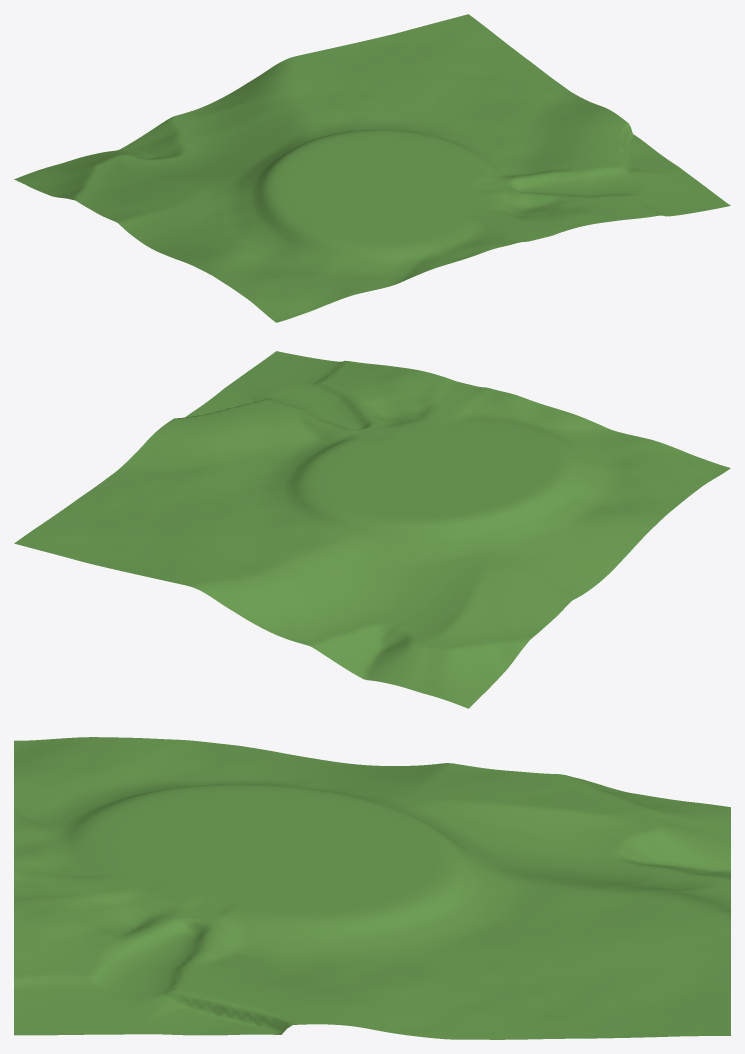
Rendered from SM_Terrain_03_01.fbx.
The picture shows the model from 3 angles, top to bottom: view 1: azimuth 30°, elevation 25°; view 2: azimuth 150°, elevation 25°; view 3: azimuth 270°, elevation 25°; orthographic projection. The views are drawn at different scales.
Parts seen in each view (by area): view 1: SM_Terrain_03_01; view 2: SM_Terrain_03_01; view 3: SM_Terrain_03_01.
Part boxes in pixels (x1=…): SM_Terrain_03_01: x1=14, y1=14, x2=730, y2=322; SM_Terrain_03_01: x1=14, y1=351, x2=730, y2=708; SM_Terrain_03_01: x1=14, y1=737, x2=730, y2=1039.
Size of the model in its own units: 384 by 56.99 by 384.
